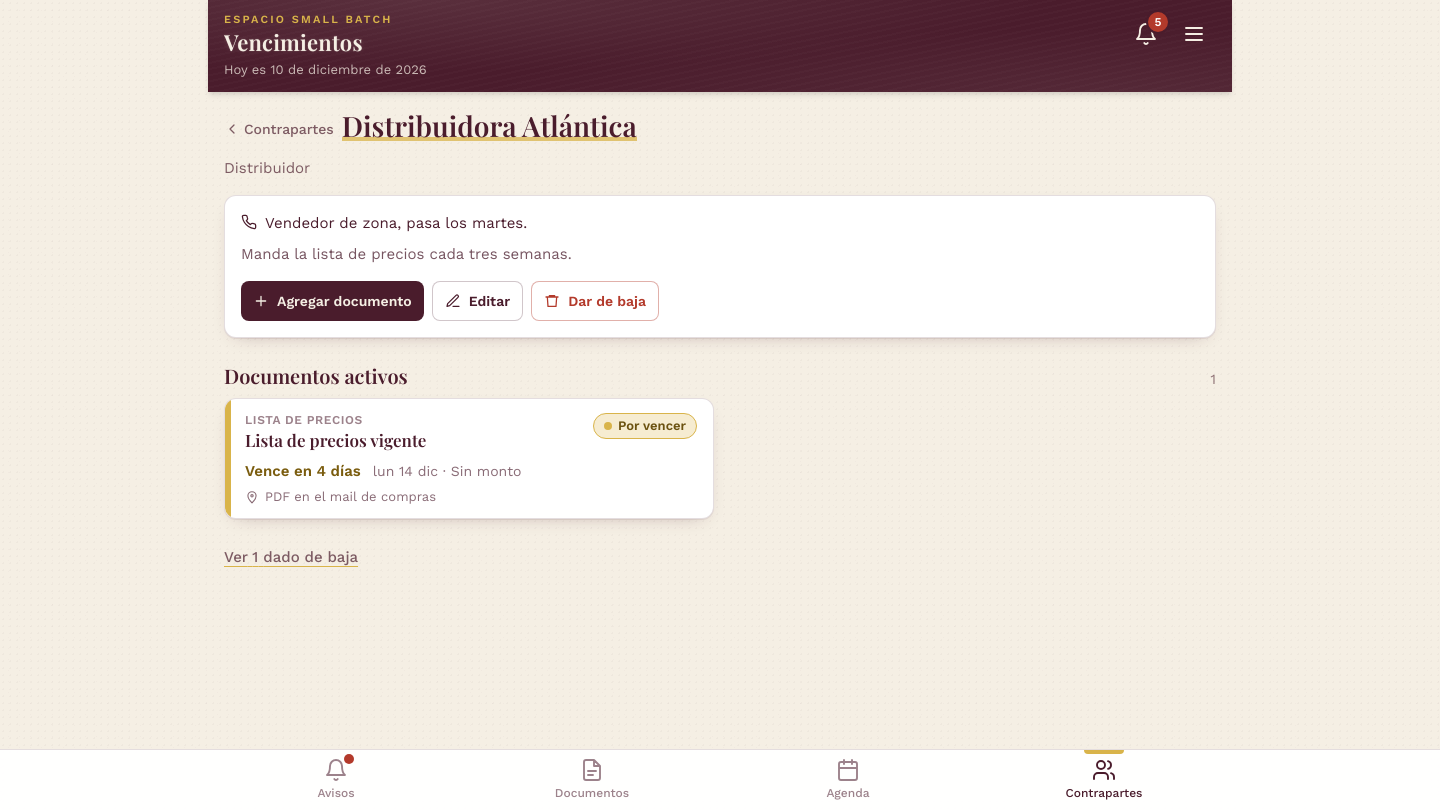
Test: prueba guiada: vigencia con fecha de referencia › no deja dar de baja una contraparte con documentos activos
Click the button "Dar de baja" at point(595, 301), box top-left (531, 281), bottom-right (659, 321)
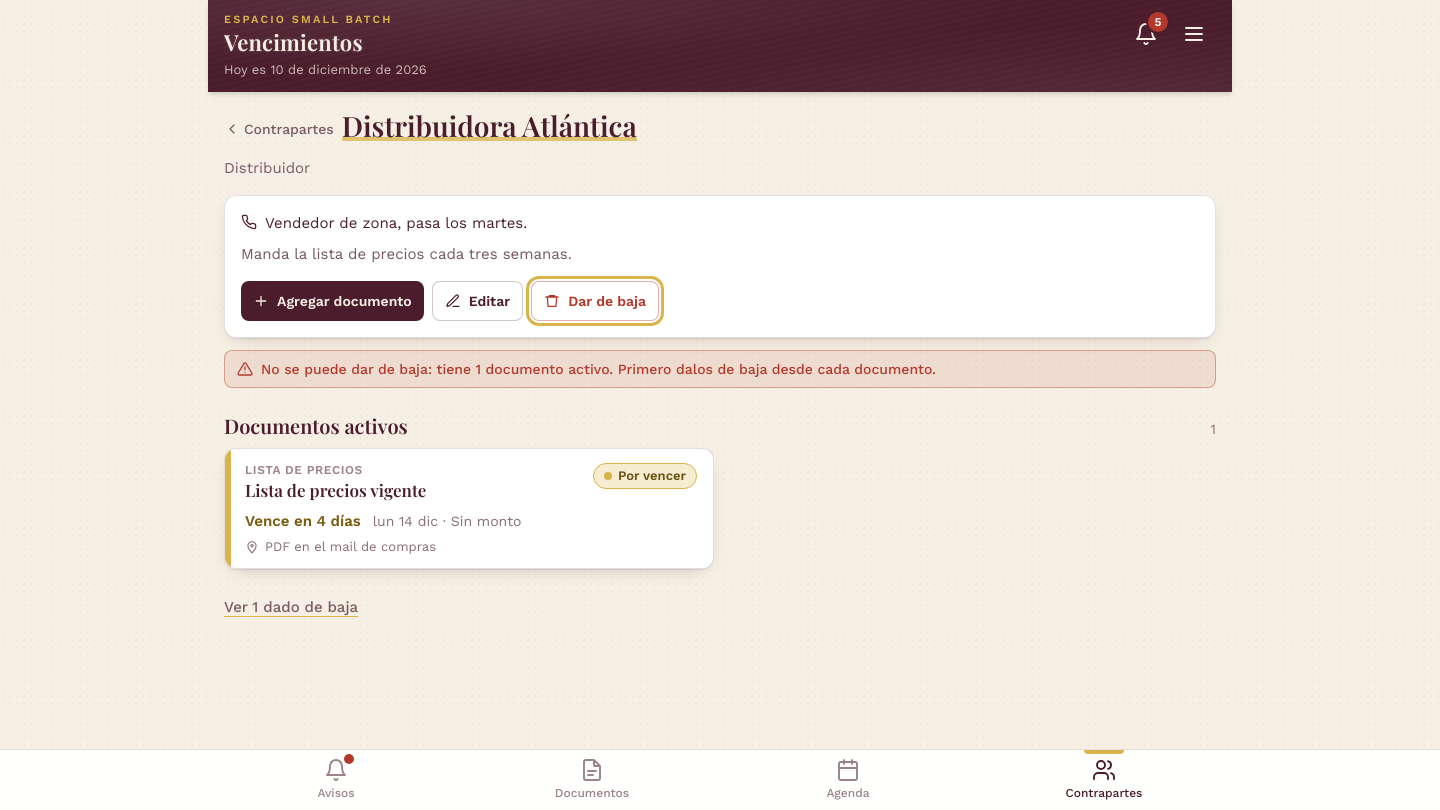
Expected: the text "No se puede dar de baja: tiene 1 documento activo" is shown, top-left (261, 361), bottom-right (936, 377)
